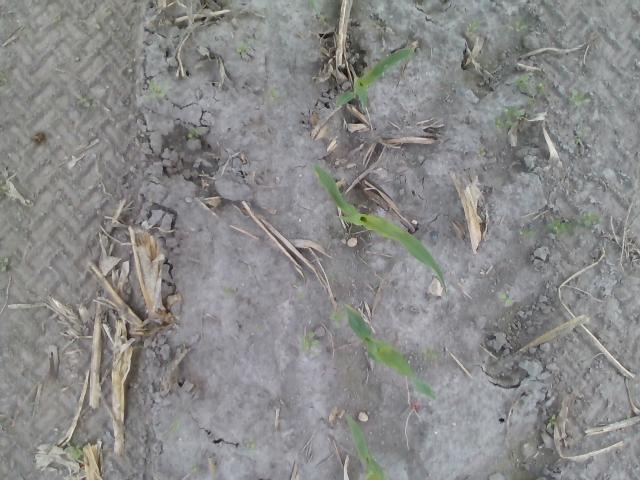Maize: (310, 162, 450, 292), (338, 298, 438, 400), (334, 46, 414, 110), (345, 412, 389, 480), (308, 0, 348, 25)
Weeds: (494, 104, 524, 132), (298, 331, 322, 357), (571, 211, 603, 227), (544, 218, 572, 236), (568, 88, 590, 106), (146, 81, 168, 98), (66, 441, 83, 461), (515, 73, 532, 92), (330, 310, 346, 328), (77, 94, 95, 108), (508, 20, 528, 32), (422, 346, 438, 360), (268, 86, 282, 100), (498, 292, 512, 306), (0, 178, 8, 202), (247, 436, 256, 455), (88, 17, 101, 30), (0, 256, 10, 272), (536, 82, 547, 96), (466, 20, 478, 32), (546, 414, 556, 428), (170, 419, 180, 433), (576, 127, 584, 144), (519, 230, 537, 237), (222, 286, 232, 298), (187, 128, 199, 138), (0, 70, 7, 86), (237, 44, 248, 54), (526, 96, 536, 107), (188, 463, 198, 472), (476, 147, 486, 156), (328, 274, 336, 282), (298, 292, 306, 300), (625, 413, 632, 421)
